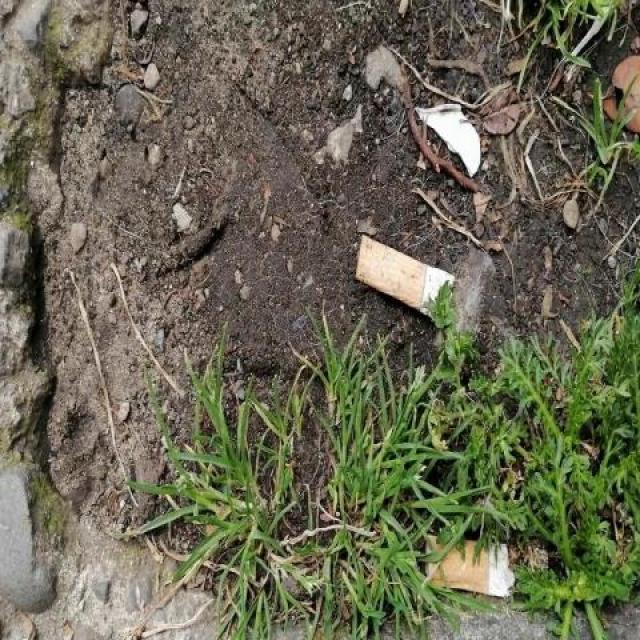non-organic waste: (353, 229, 459, 331), (420, 526, 520, 602)
